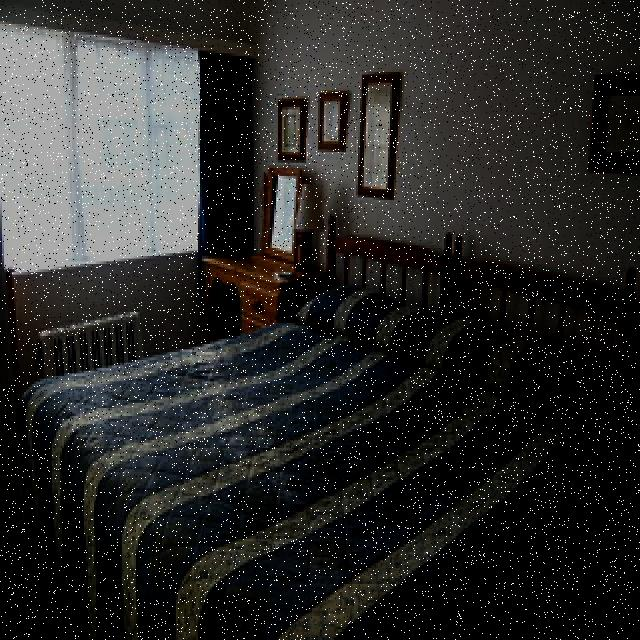bed: (29, 267, 638, 640)
